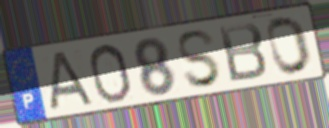8: (133, 35, 180, 98)
A: (46, 49, 97, 113)
B: (216, 20, 270, 85)
O: (265, 14, 314, 77), (87, 41, 134, 105)
S: (175, 27, 224, 91)
